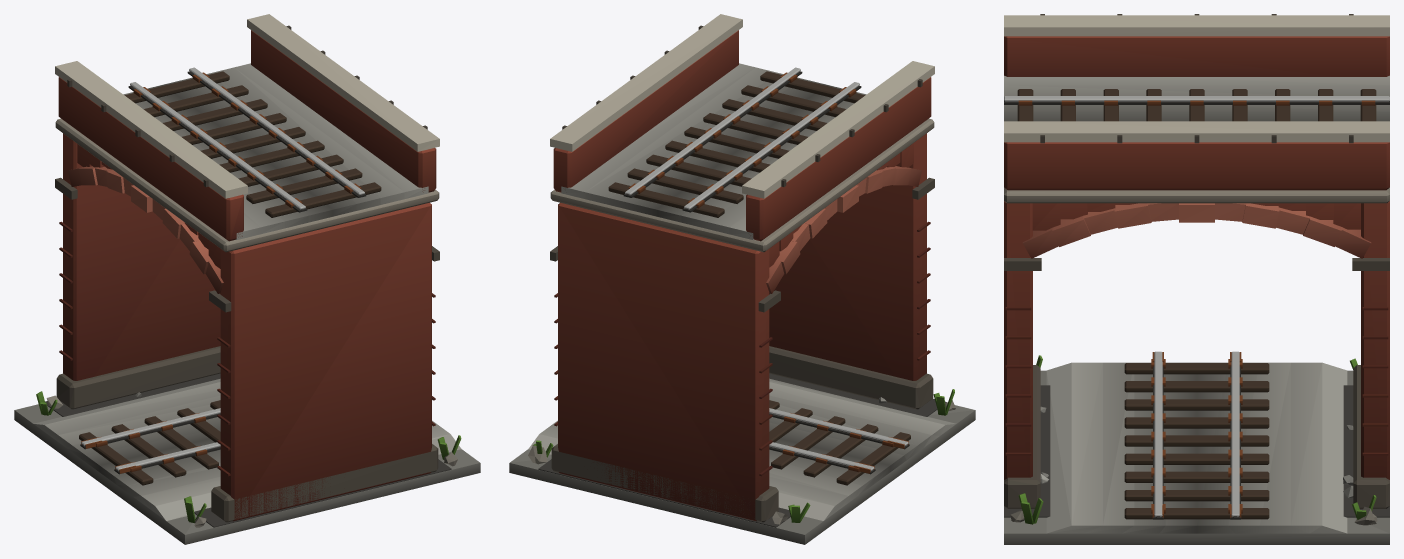
File: track-flyover-crossing-tile.glb
3 renders of one model, left to right at view 1: azimuth 30°, elevation 25°; view 2: azimuth 150°, elevation 25°; view 3: azimuth 270°, elevation 25°, orthographic. The views are drawn at different scales.
Visible parts, largest first — view 1: track_flyover_crossing_tile; view 2: track_flyover_crossing_tile; view 3: track_flyover_crossing_tile.
Boxes of the visible parts, x1,y1,x2,y2 form: track_flyover_crossing_tile: [14, 14, 480, 544]; track_flyover_crossing_tile: [509, 14, 975, 544]; track_flyover_crossing_tile: [1004, 14, 1389, 544].
Size of the model in its own units: 4 by 4.45 by 4.
